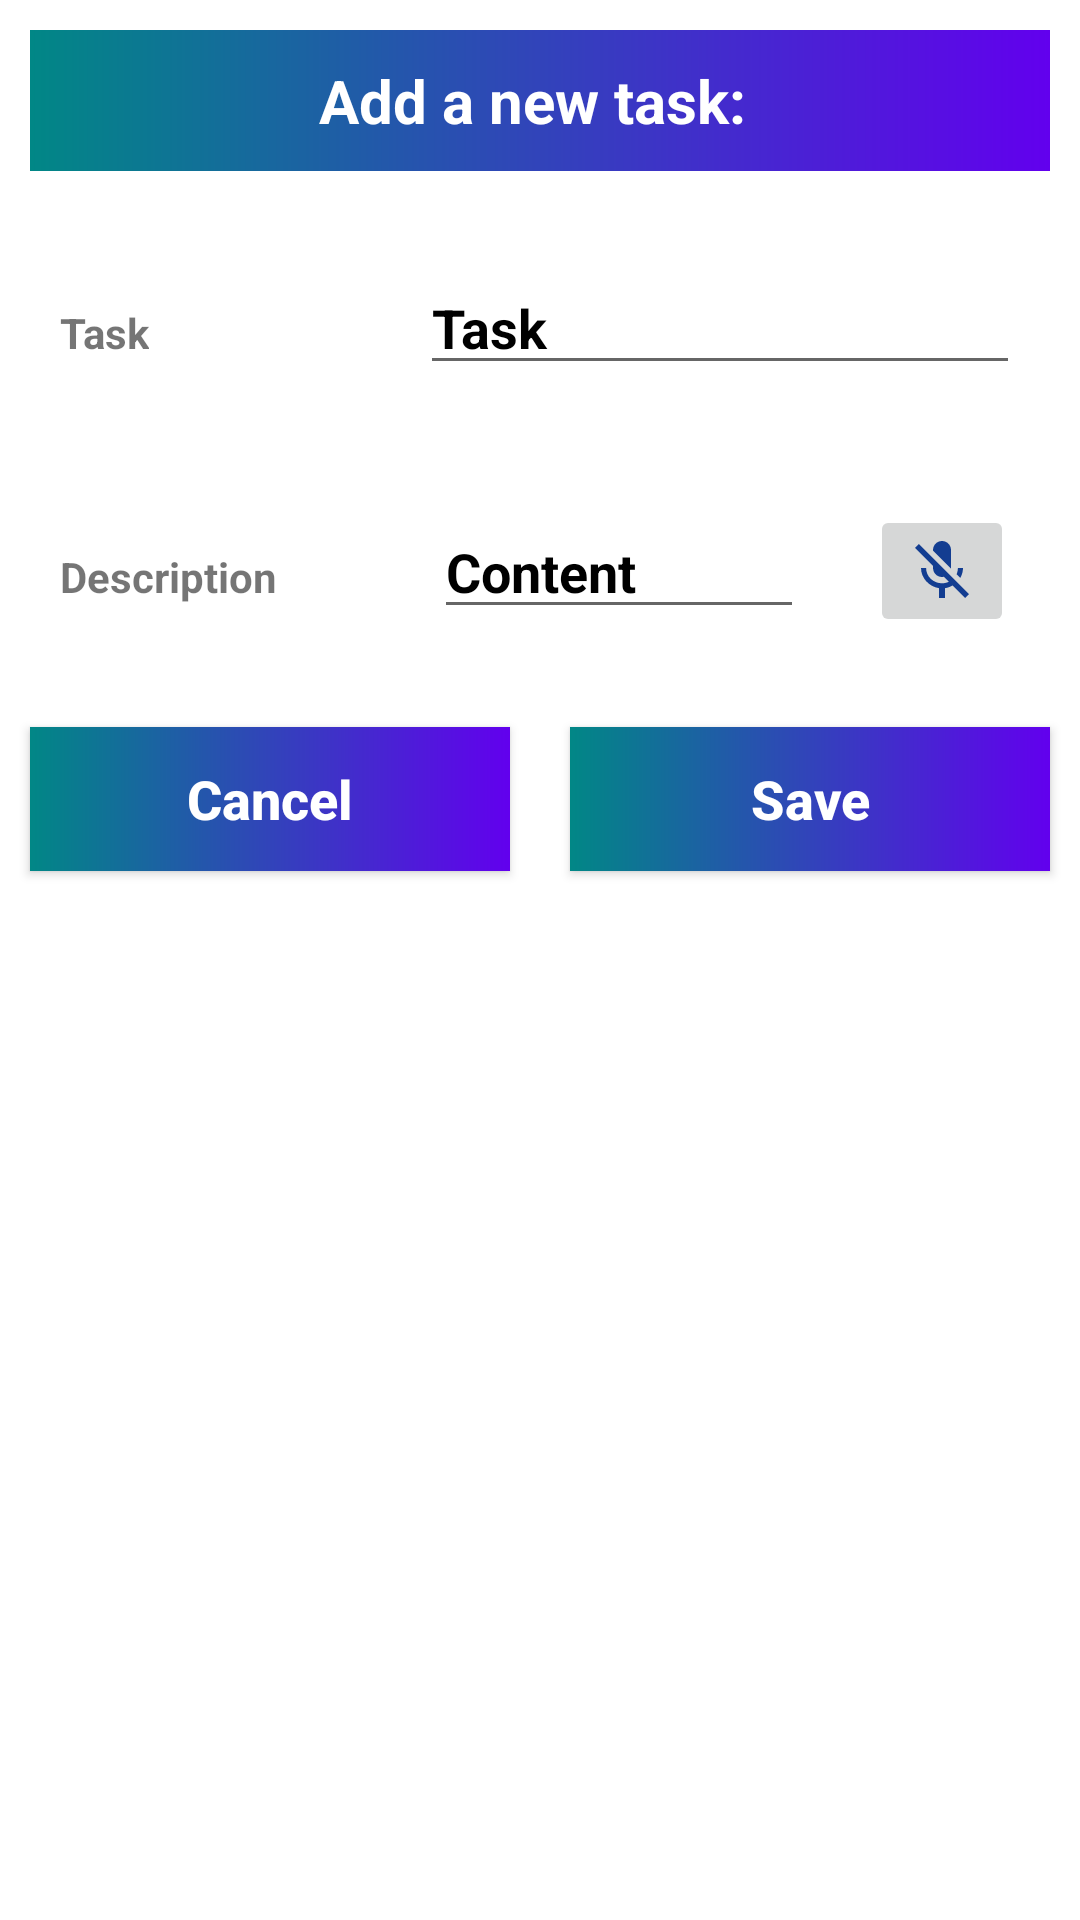

Named icons in this screenshot (1080*1920) and their bounding boxes, (x1, y1, x2, y2):
mic off: (882, 523, 1002, 619)
